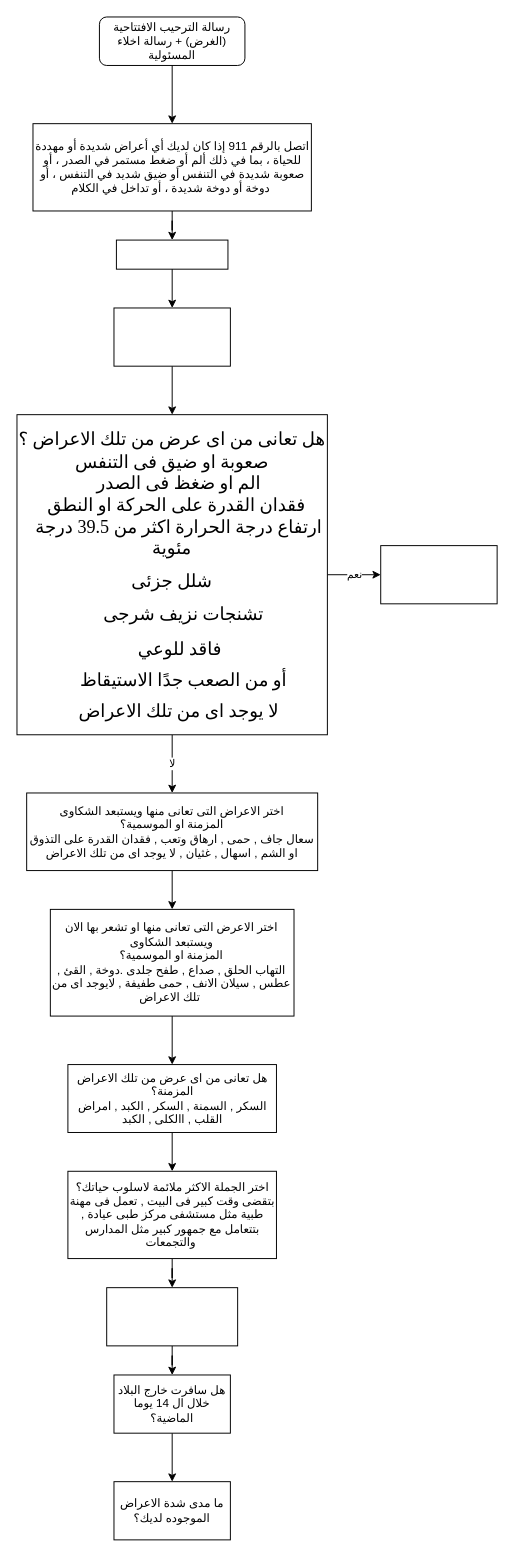
Some shapes in this 514 by 1557 pixel diagram are drawn without their labels. The centre of each missing label's shape, as x and y in pixels:
"ما هو جنسك؟" belongs at pixel 171 336.
"ما هو عمرك؟" belongs at pixel 171 254.
"نعرض رسالة الخطر لو اختار اى عرض من دول" belongs at pixel 438 574.
"هل تعاملت عن قرب مع اشخاص ثبتت اصابتهم بكوفيد 19؟" belongs at pixel 172 1316.
